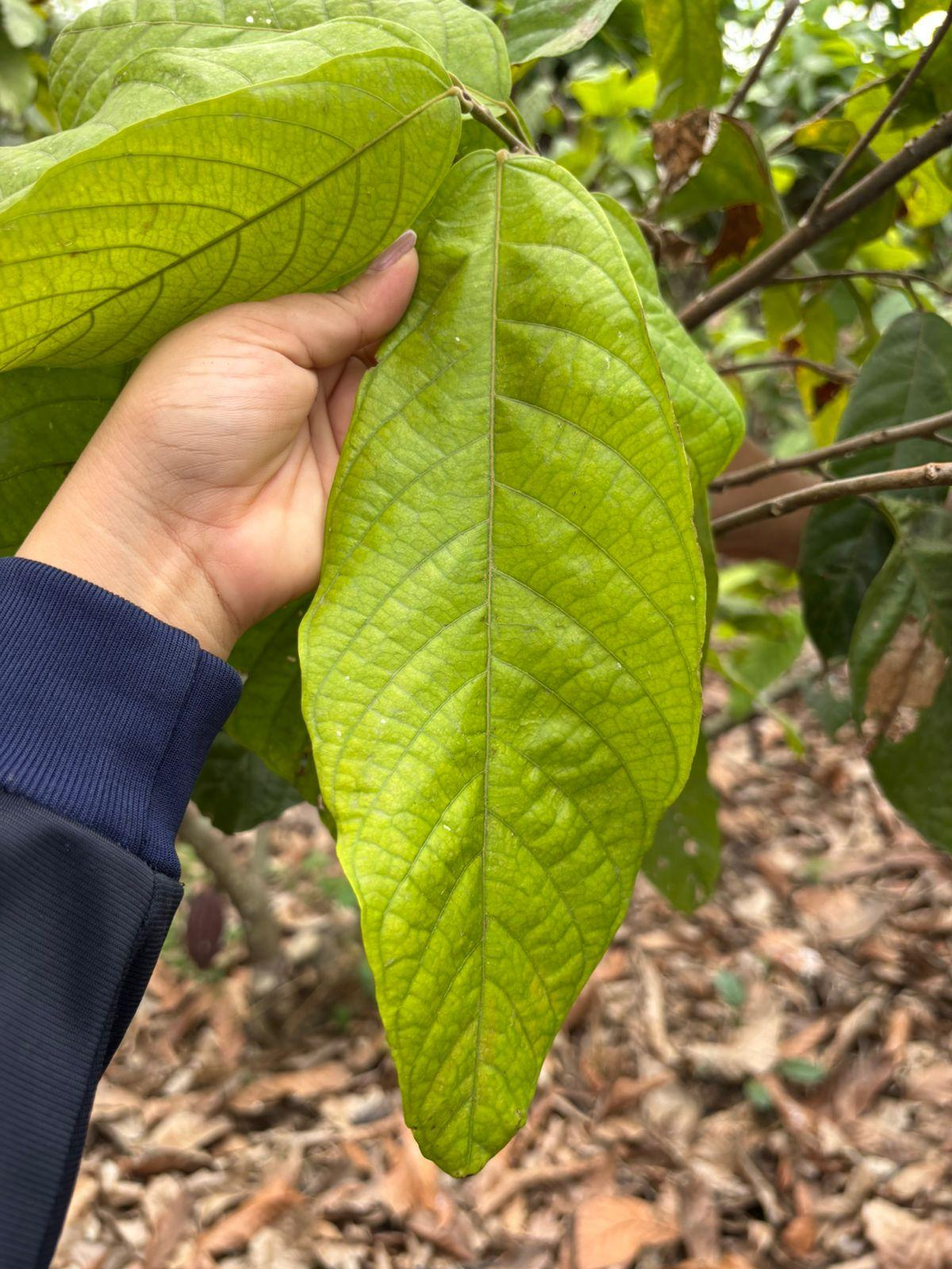deficiencia_nitrogeno: (301, 153, 704, 1174)
